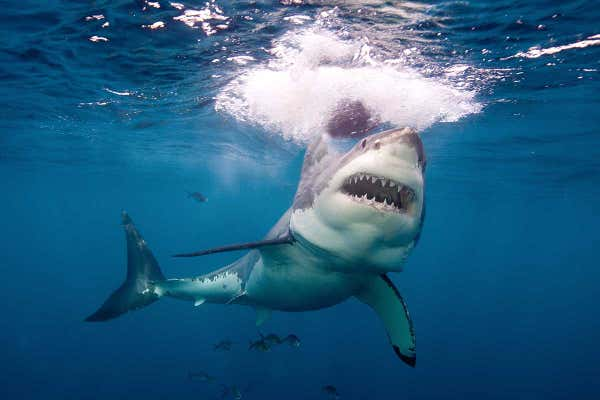shark: (82, 118, 439, 371)
